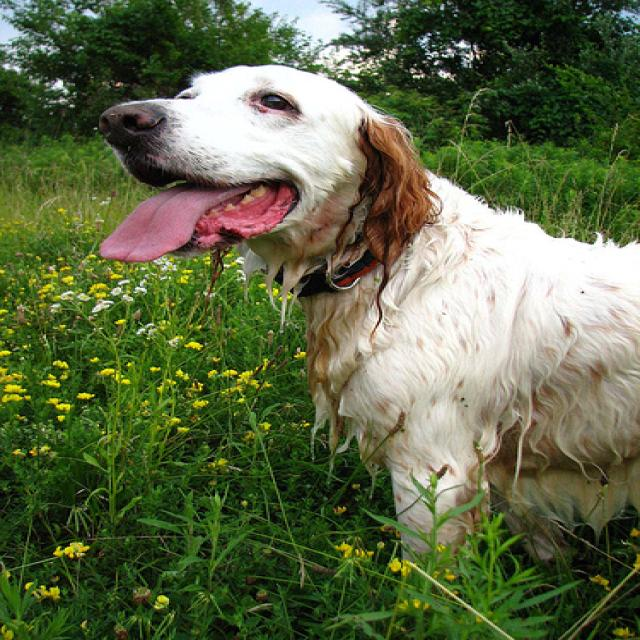dog-english_setter: (79, 51, 637, 586)
